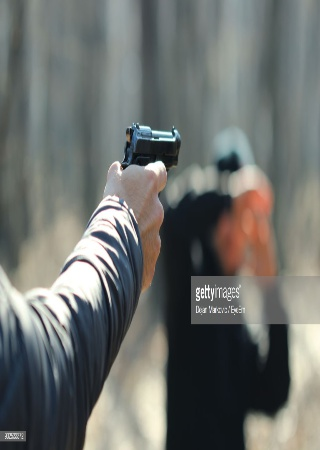handgun: (118, 116, 186, 177)
